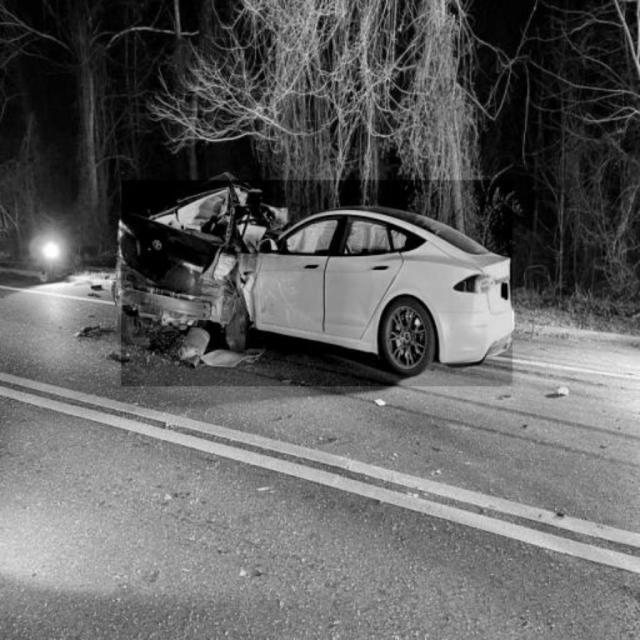accident: (122, 180, 513, 386)
